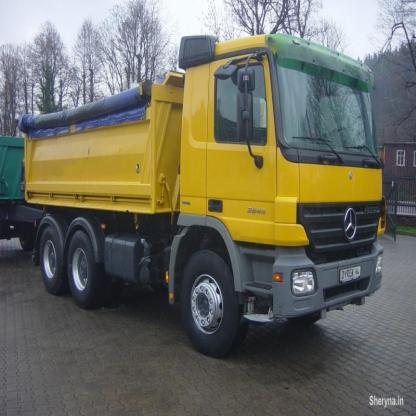dump_truck: (14, 30, 391, 361)
